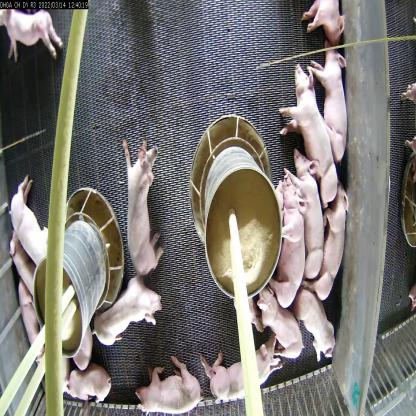Pig: (280, 53, 342, 209), (311, 44, 358, 185), (262, 174, 307, 320), (112, 136, 155, 280), (306, 194, 362, 304), (254, 271, 313, 370), (90, 282, 175, 350), (201, 332, 283, 401), (0, 0, 71, 72), (5, 163, 53, 262), (292, 154, 329, 282), (134, 354, 204, 416), (300, 277, 345, 358), (12, 250, 44, 362), (55, 354, 110, 416)
